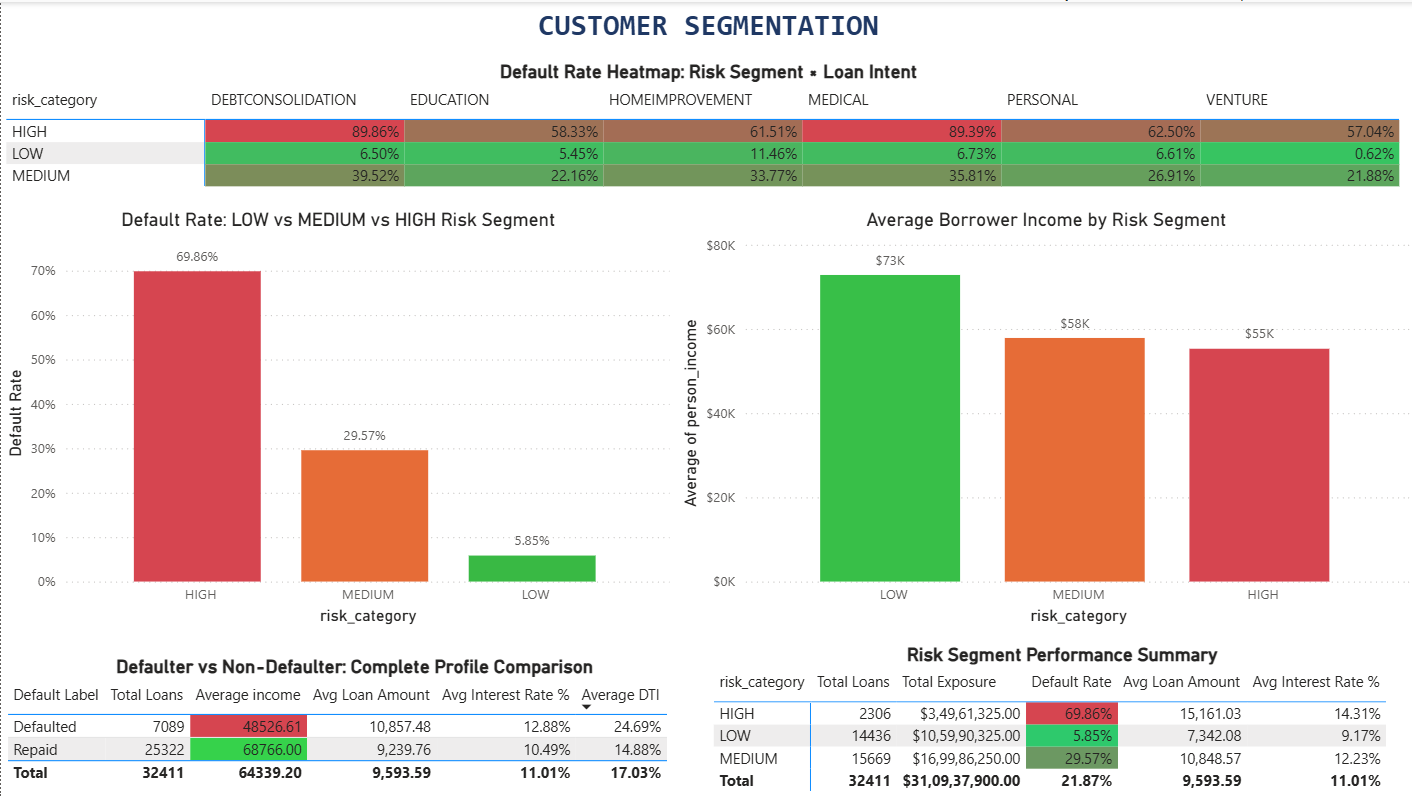

Layout of this report page (visuals, bound fields, positions):
{"tool":"powerbi","page":{"name":"Customer Segmentation","canvas":[1280,720],"ordinal":3},"visuals":[{"type":"textbox","box":[0,0,1280,65],"z":0},{"type":"pivotTable","title":"Risk Segment Performance Summary","fields":{"Rows":["credit_risk_segmented.risk_category"],"Values":["credit_risk_segmented.Total Loans","credit_risk_segmented.Total Exposure","credit_risk_segmented.Default Rate","credit_risk_segmented.Avg Loan Amount","credit_risk_segmented.Avg Interest Rate %"]},"box":[640,580,640,140],"z":1000},{"type":"clusteredColumnChart","title":"Default Rate: LOW vs MEDIUM vs HIGH Risk Segment","fields":{"Category":["credit_risk_segmented.risk_category"],"Y":["credit_risk_segmented.Default Rate"]},"box":[0,186.7,610,381.7],"z":2000},{"type":"columnChart","title":"Average Borrower Income by Risk Segment","fields":{"Category":["credit_risk_segmented.risk_category"],"Y":["Avg(credit_risk_segmented.person_income)"]},"box":[610,186.7,670,381.7],"z":3000},{"type":"pivotTable","title":"Default Rate Heatmap: Risk Segment × Loan Intent","fields":{"Rows":["credit_risk_segmented.risk_category"],"Columns":["credit_risk_segmented.loan_intent"],"Values":["credit_risk_segmented.Default Rate"]},"box":[0,53.3,1280,133.3],"z":4000},{"type":"tableEx","title":"Defaulter vs Non-Defaulter: Complete Profile Comparison","fields":{"Values":["credit_risk_segmented.Default Label","credit_risk_segmented.Total Loans","Avg(credit_risk_segmented.person_income)","credit_risk_segmented.Avg Loan Amount","credit_risk_segmented.Avg Interest Rate %","Avg(credit_risk_segmented.loan_percent_income)"]},"box":[0,591.7,640,128.3],"z":5000}]}

Visuals, with their boxes in screenshot pixels (x1, y1, x2, y2), scaled from the page's 1280x720 canvas onto the 1412x797 screenshot:
textbox: (0,0,1411,72)
"Risk Segment Performance Summary" pivotTable: (706,642,1411,796)
"Default Rate: LOW vs MEDIUM vs HIGH Risk Segment" clusteredColumnChart: (0,207,673,629)
"Average Borrower Income by Risk Segment" columnChart: (673,207,1411,629)
"Default Rate Heatmap: Risk Segment × Loan Intent" pivotTable: (0,59,1411,207)
"Defaulter vs Non-Defaulter: Complete Profile Comparison" tableEx: (0,655,706,796)
